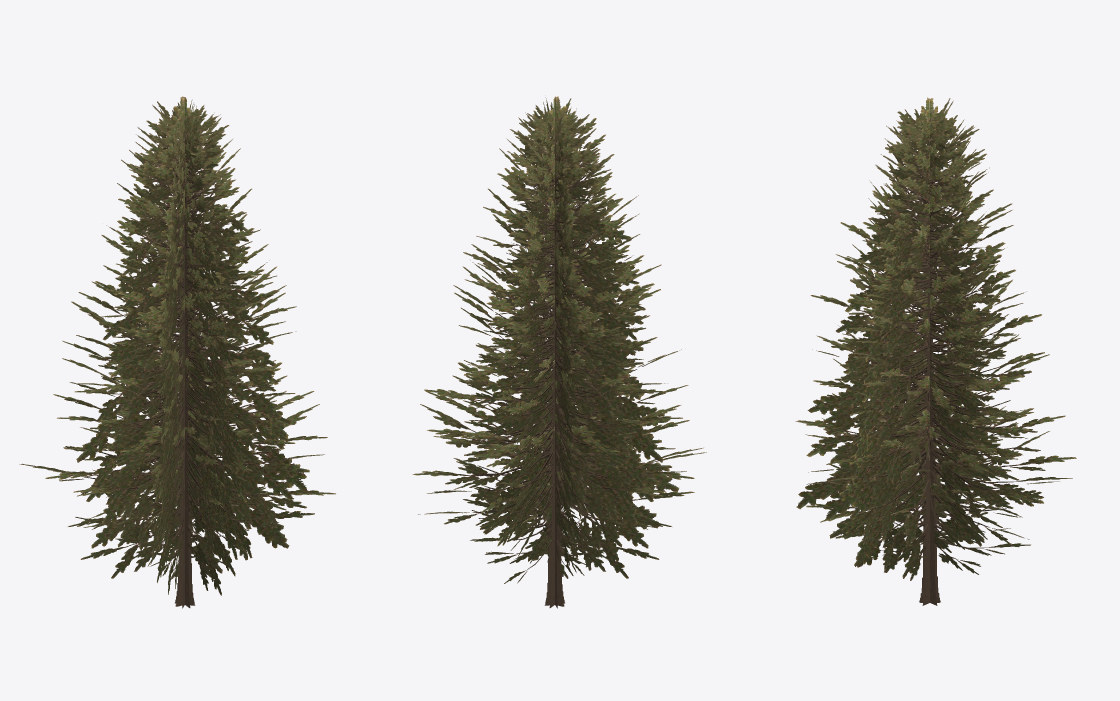
Rendered from fir_small_b_lod3_cross.gltf.
3 renders of one model, left to right at view 1: azimuth 30°, elevation 25°; view 2: azimuth 150°, elevation 25°; view 3: azimuth 270°, elevation 25°, orthographic.
Parts seen in each view (by area): view 1: fir_small_b_LOD3; view 2: fir_small_b_LOD3; view 3: fir_small_b_LOD3.
Part boxes in pixels (x1,y1,x2,y2): fir_small_b_LOD3: [19, 96, 335, 608]; fir_small_b_LOD3: [412, 96, 706, 608]; fir_small_b_LOD3: [795, 97, 1076, 605].
Bounding box in the file's own units: 9.09 × 14.98 × 9.09.
1 material, 1 textured.
